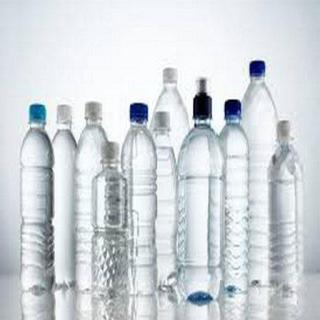Plastic-bottle: (238, 49, 288, 294), (178, 90, 225, 305), (121, 101, 161, 299), (75, 99, 115, 295), (149, 65, 197, 227), (18, 99, 57, 295), (217, 100, 255, 295), (265, 119, 306, 295), (92, 138, 132, 302), (146, 106, 181, 291), (52, 105, 84, 290)
